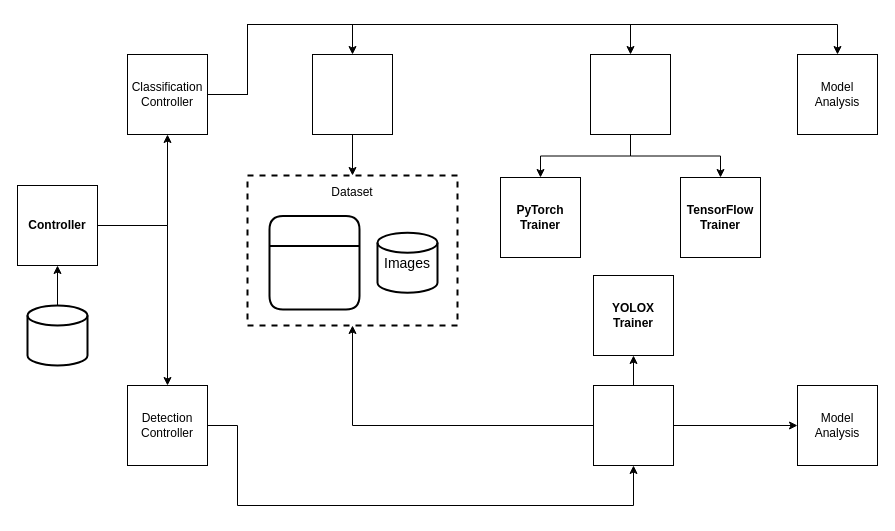
This 895x531 diagram has some shape labels left out. The shapes that lost their labels are listed below. From the top down, each one's box as (x1, y1, x2, y2) in pixels, then its label:
(312, 54, 392, 134): Data Module
(590, 54, 670, 134): Trainer
(268, 214, 360, 310): Annotations
(26, 304, 88, 366): Config
(592, 384, 674, 466): YOLOX Experiment Class
